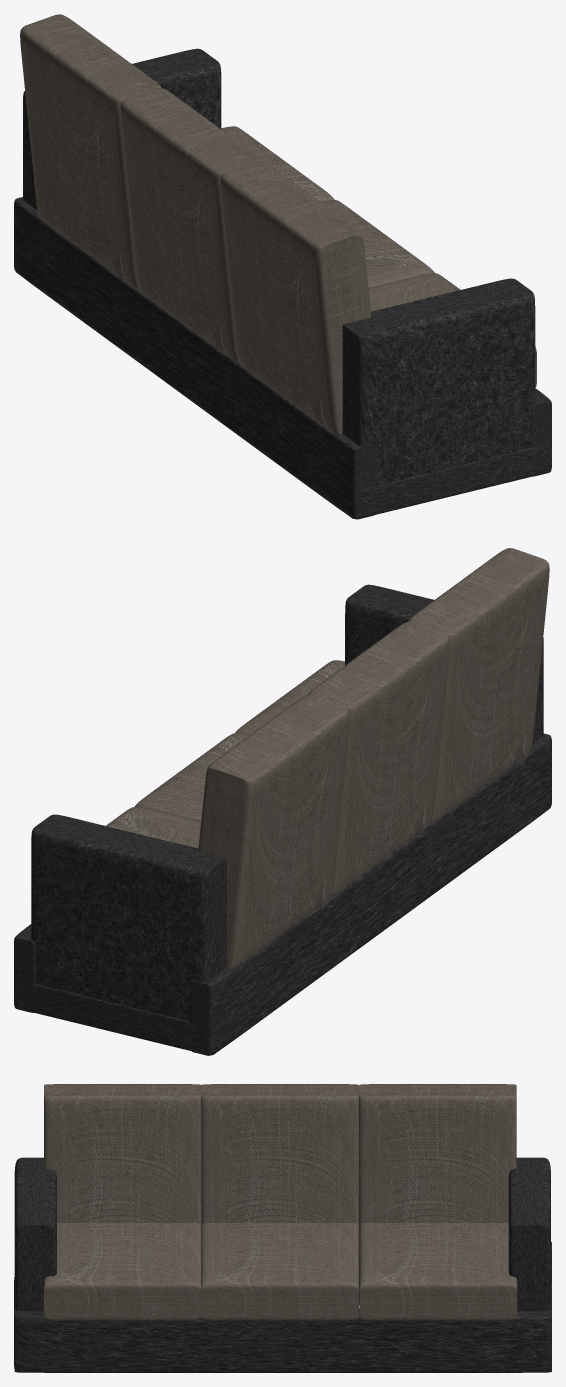
3 views of the same model, one above another, from view 1: azimuth 30°, elevation 25°; view 2: azimuth 150°, elevation 25°; view 3: azimuth 270°, elevation 25° (orthographic). The views are drawn at different scales.
Visible parts, largest first — view 1: baseF.002, teko1, baseB, teko1.002, teko1.001, baseF.001, baseF.003, seat2, seat1, seat3, baseF; view 2: baseF.003, teko1.002, baseB, teko1.001, teko1, baseF.004, baseF.002, seat2, seat3, seat1, baseF; view 3: baseF, teko1.001, teko1.002, teko1, seat2, seat3, seat1, baseF.003, baseF.002.
Part boxes in pixels (box(x1,y1,x2,y2)): baseF.002: box(342, 278, 535, 485); teko1: box(220, 161, 371, 434); baseB: box(14, 197, 375, 519); teko1.002: box(20, 14, 161, 287); teko1.001: box(120, 88, 261, 361); baseF.001: box(348, 445, 547, 518); baseF.003: box(23, 48, 221, 209); seat2: box(321, 200, 434, 287); seat1: box(368, 273, 536, 387); seat3: box(221, 126, 334, 201); baseF: box(531, 388, 551, 476); baseF.003: box(31, 814, 226, 1021); teko1.002: box(198, 694, 349, 968); baseB: box(190, 733, 551, 1055); teko1.001: box(308, 621, 449, 894); teko1: box(408, 548, 549, 821); baseF.004: box(26, 983, 216, 1055); baseF.002: box(345, 584, 543, 743); seat2: box(134, 733, 248, 821); seat3: box(106, 807, 200, 848); seat1: box(235, 660, 344, 735); baseF: box(14, 924, 35, 1012); baseF: box(14, 1309, 551, 1372); teko1.001: box(201, 1084, 358, 1224); teko1.002: box(359, 1084, 516, 1256); teko1: box(44, 1084, 201, 1223); seat2: box(201, 1223, 358, 1320); seat3: box(359, 1223, 517, 1320); seat1: box(44, 1223, 201, 1320); baseF.003: box(508, 1157, 550, 1311); baseF.002: box(14, 1157, 56, 1311).
Size of the model in its own units: 99.12 by 116 by 268.
Materials: 2 (2 with a texture image).
